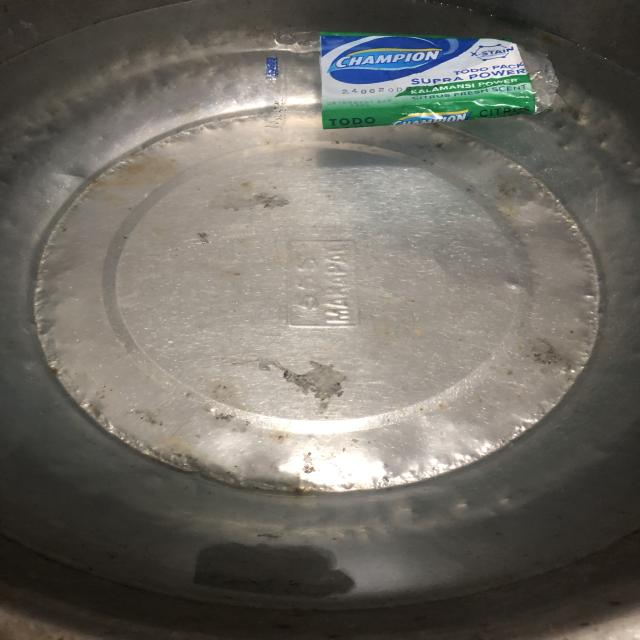Plastic Wrapper: (229, 15, 601, 172)
